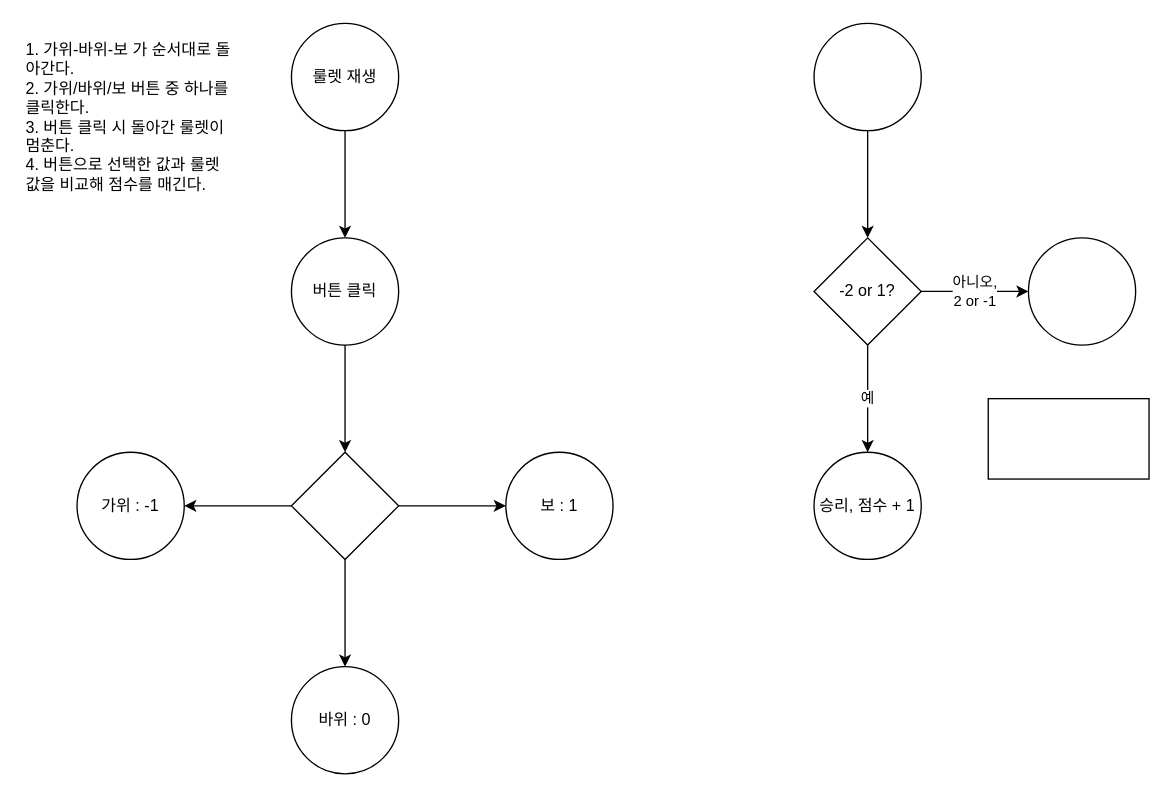
The diagram is 1173 pixels wide and 797 high, and some of its shapes have lost their labels. The centre of each missing label's shape, as x and y in pixels:
가위/바위/보?: (344,505)
그 외, 무승부: (1068,438)
버튼 - 룰렛: (867,76)
패배, 점수 - 1: (1081,291)
